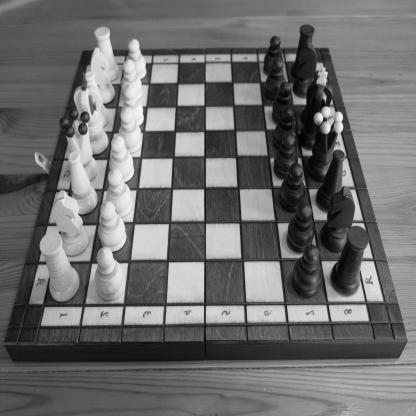black-bishop: (315, 149, 346, 214), (300, 69, 324, 127)
black-king: (298, 66, 333, 151)
black-knight: (320, 185, 355, 252), (292, 41, 317, 99)
black-pawn: (290, 243, 323, 300), (286, 201, 316, 254), (279, 162, 306, 214), (273, 131, 299, 180), (272, 105, 297, 152), (271, 81, 294, 125), (264, 57, 286, 102), (263, 35, 284, 76)
black-queen: (305, 106, 344, 183)
black-rook: (329, 224, 370, 298), (290, 23, 315, 81)
white-bishop: (68, 151, 98, 216), (84, 71, 110, 128)
white-king: (73, 70, 109, 155)
white-knight: (53, 190, 90, 257), (90, 47, 116, 105)
white-pawn: (95, 247, 125, 301), (98, 200, 127, 253), (106, 168, 133, 218), (109, 135, 135, 183), (118, 107, 143, 154), (121, 84, 144, 127), (121, 59, 143, 102), (126, 38, 147, 81)
white-queen: (59, 107, 98, 182)
white-rook: (39, 231, 80, 303), (94, 26, 120, 82)
